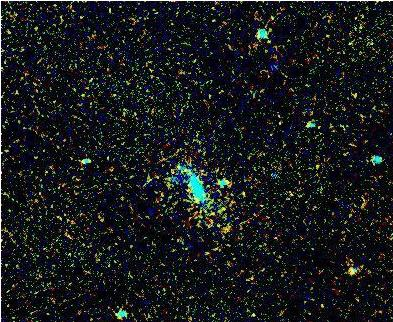star: (213, 219, 243, 249)
